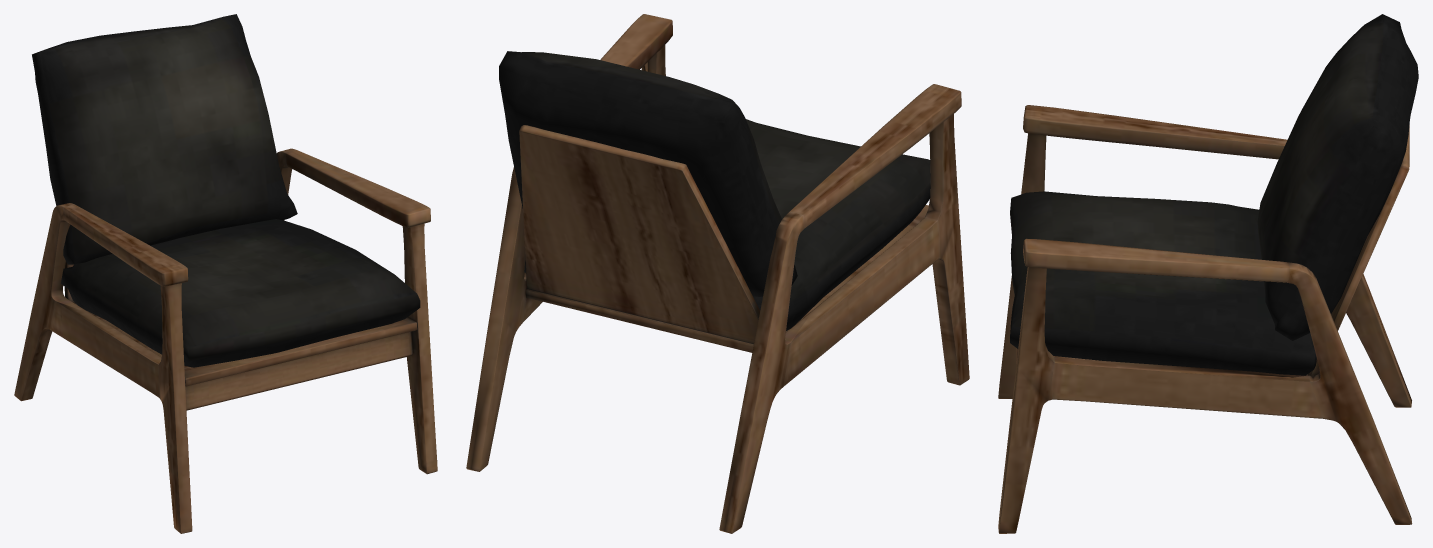
Rendered from modern_arm_chair_01.glb.
The picture shows the model from 3 angles, left to right: view 1: azimuth 30°, elevation 25°; view 2: azimuth 150°, elevation 25°; view 3: azimuth 270°, elevation 25°; orthographic projection. The views are drawn at different scales.
Visible parts, largest first — view 1: modern_arm_chair_01; view 2: modern_arm_chair_01; view 3: modern_arm_chair_01.
Boxes of the visible parts, <box> form: modern_arm_chair_01: <box>14,14,437,533</box>; modern_arm_chair_01: <box>466,14,969,533</box>; modern_arm_chair_01: <box>998,14,1418,533</box>.
Size of the model in its own units: 0.8203 by 1.02 by 0.9865.
Materials: 2 (2 with a texture image).
